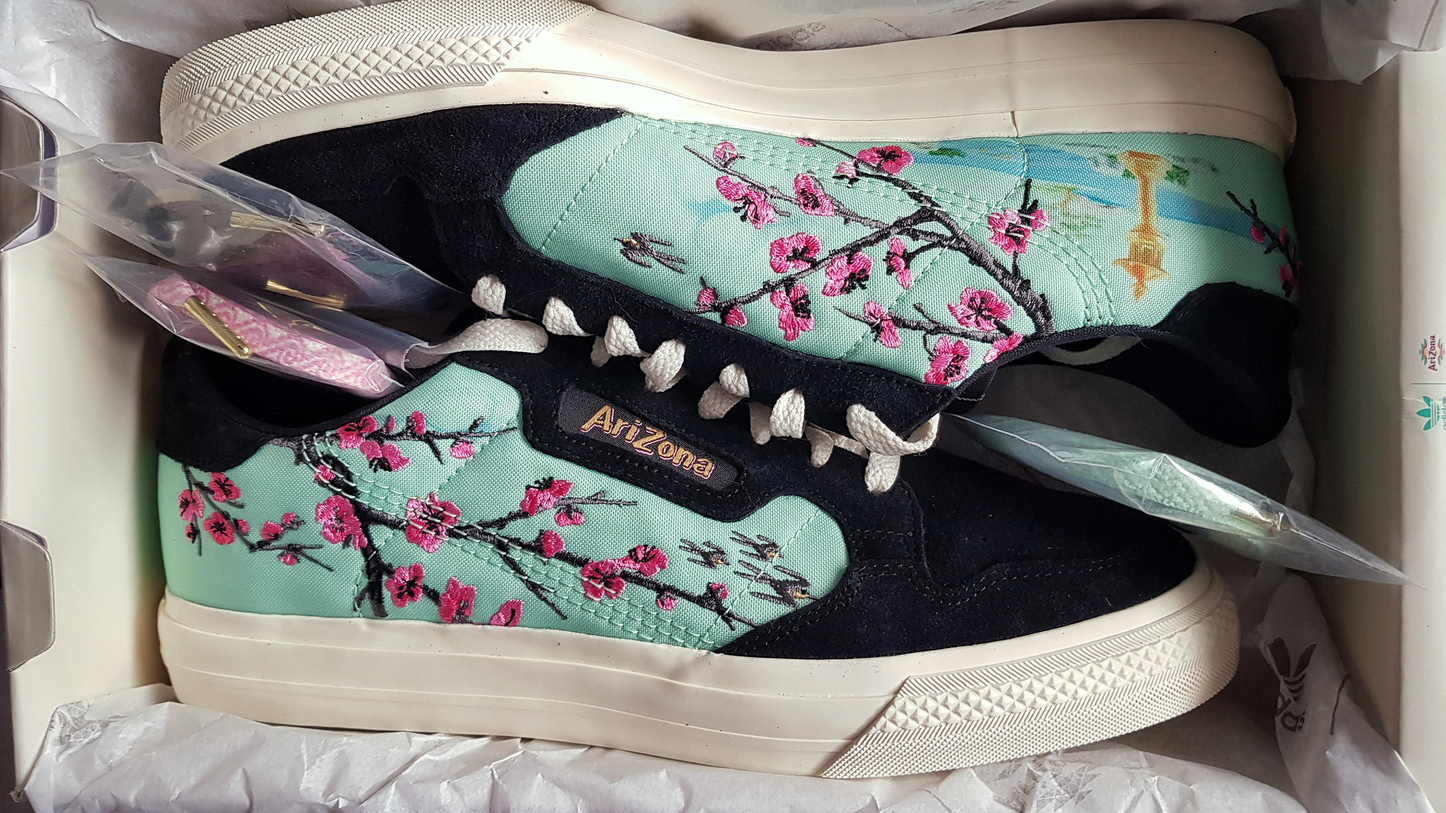sneaker: (122, 332, 1289, 779), (127, 5, 1413, 386)
